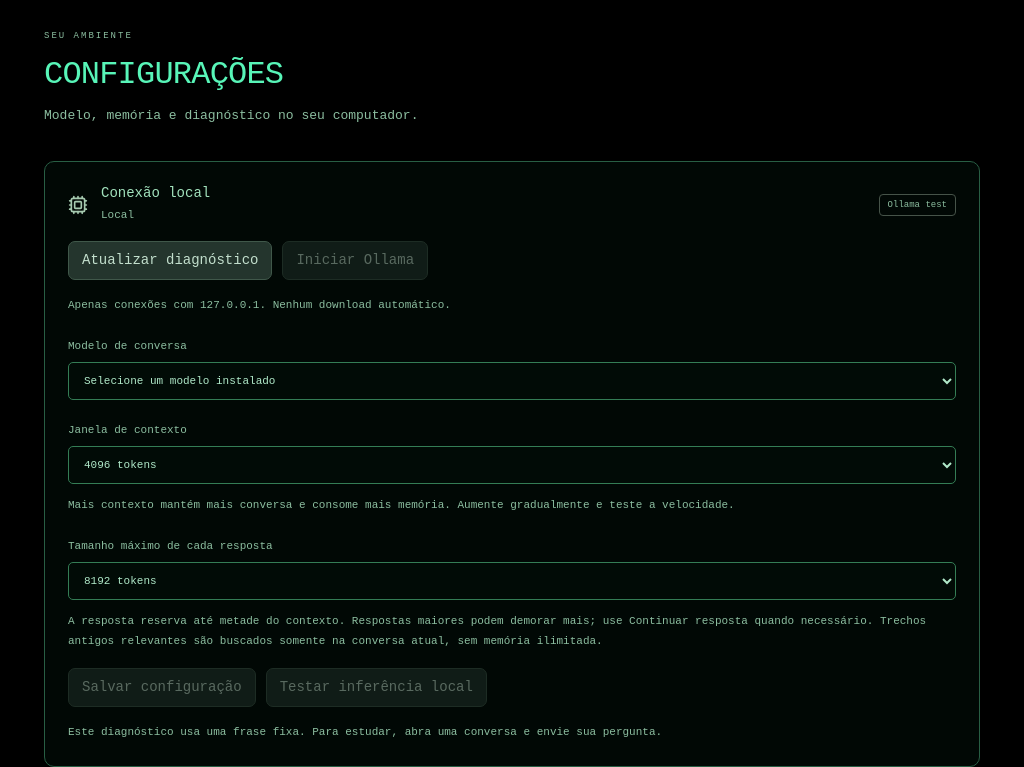
Test: Conexão local › salva o modelo antes do teste e apresenta a medição retornada
Select "qwen3:8b · 5.2 GB ·" in the dropdown labelled "Modelo de conversa". click: coordinates (512, 381)
box: [68,362,956,400]
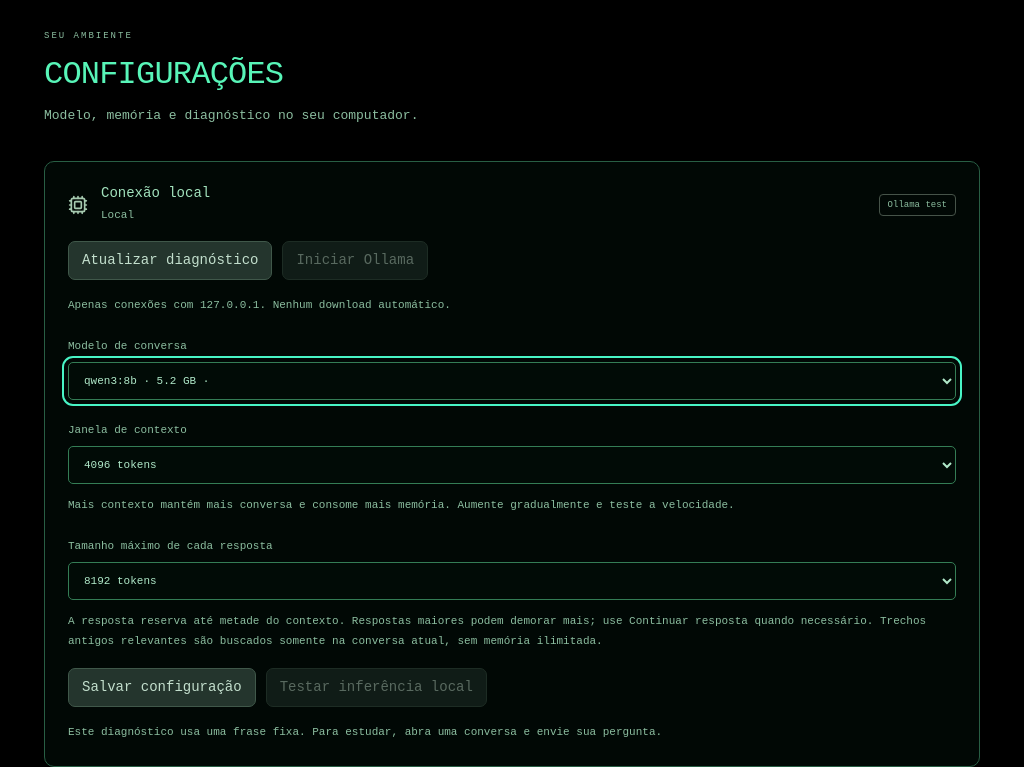
expect the button "Testar inferência local" is disabled: met, box [266,668,487,707]
Click the button "Salvar configuração". click: coordinates (162, 687)
box: [68,668,256,707]
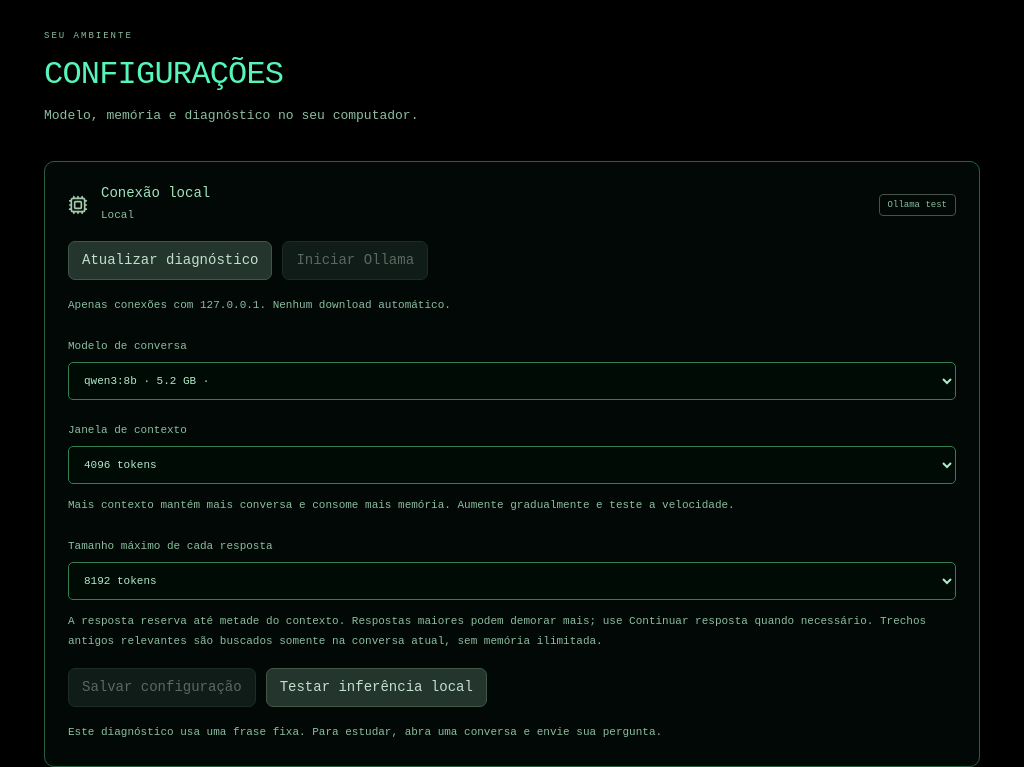
expect the button "Testar inferência local" is enabled: met
Click the button "Testar inferência local". click: coordinates (376, 687)
box: [266,668,487,707]
(page scrolled)
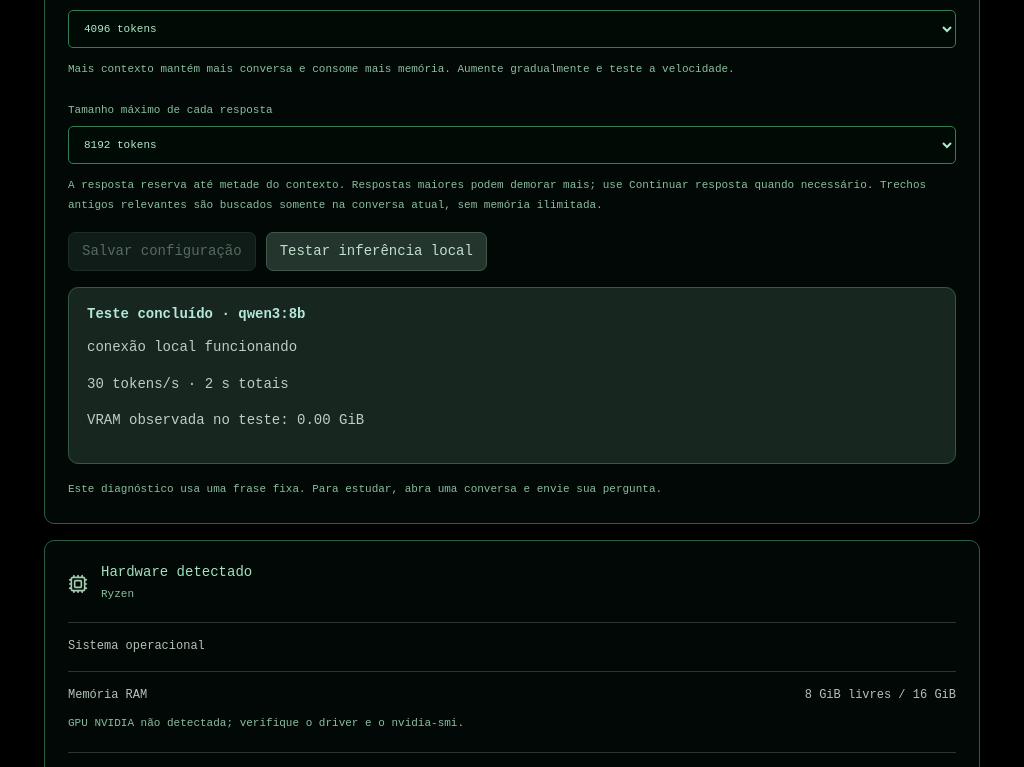
expect the text "conexão local funcionando" is shown: met, box [87,339,297,355]
expect the text "30 tokens/s · 2 s totais" is shown: met, box [87,376,289,392]
